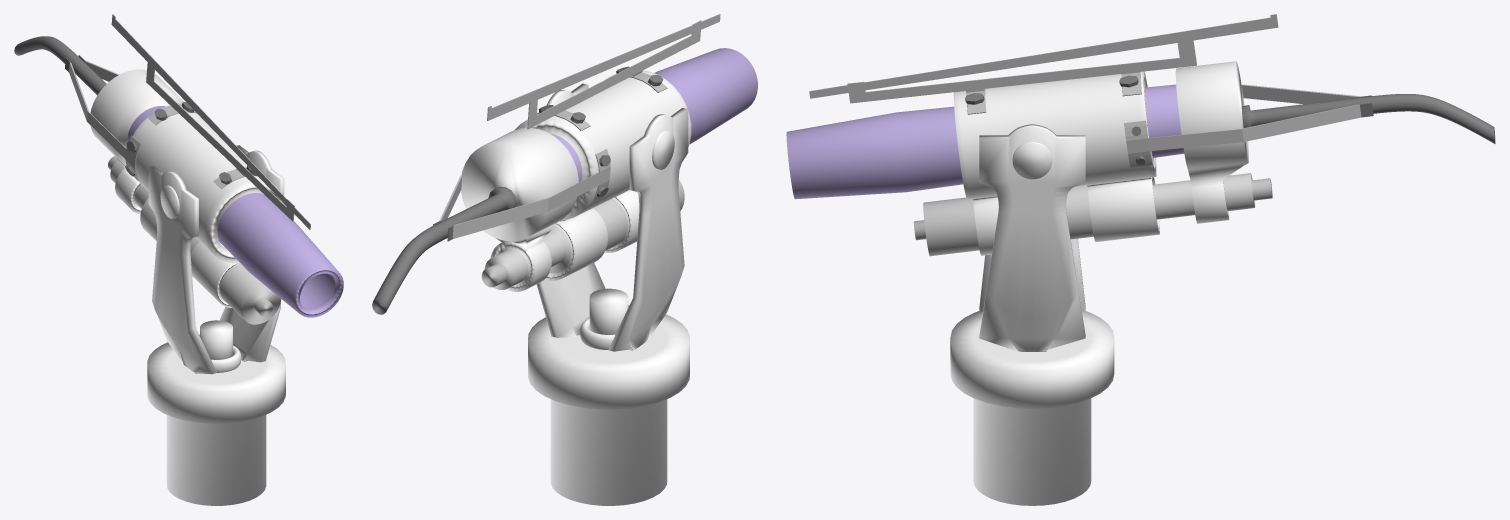
The model's file is Arpao_Canhao.fbx.
The picture shows the model from 3 angles, left to right: view 1: azimuth 30°, elevation 25°; view 2: azimuth 150°, elevation 25°; view 3: azimuth 270°, elevation 25°; orthographic projection. The views are drawn at different scales.
Parts seen in each view (by area): view 1: Canhao, Base, Eixo_rotacao; view 2: Canhao, Base, Eixo_rotacao; view 3: Canhao, Base, Eixo_rotacao.
Part boxes in pixels (x1,y1,x2,y2): Canhao: (14,14,343,324); Base: (147,320,285,505); Eixo_rotacao: (148,145,284,374); Canhao: (372,14,757,314); Base: (528,288,689,505); Eixo_rotacao: (536,83,688,351); Canhao: (786,14,1495,256); Base: (950,311,1114,505); Eixo_rotacao: (979,124,1085,351).
Size of the model in its own units: 107 by 335 by 462.
